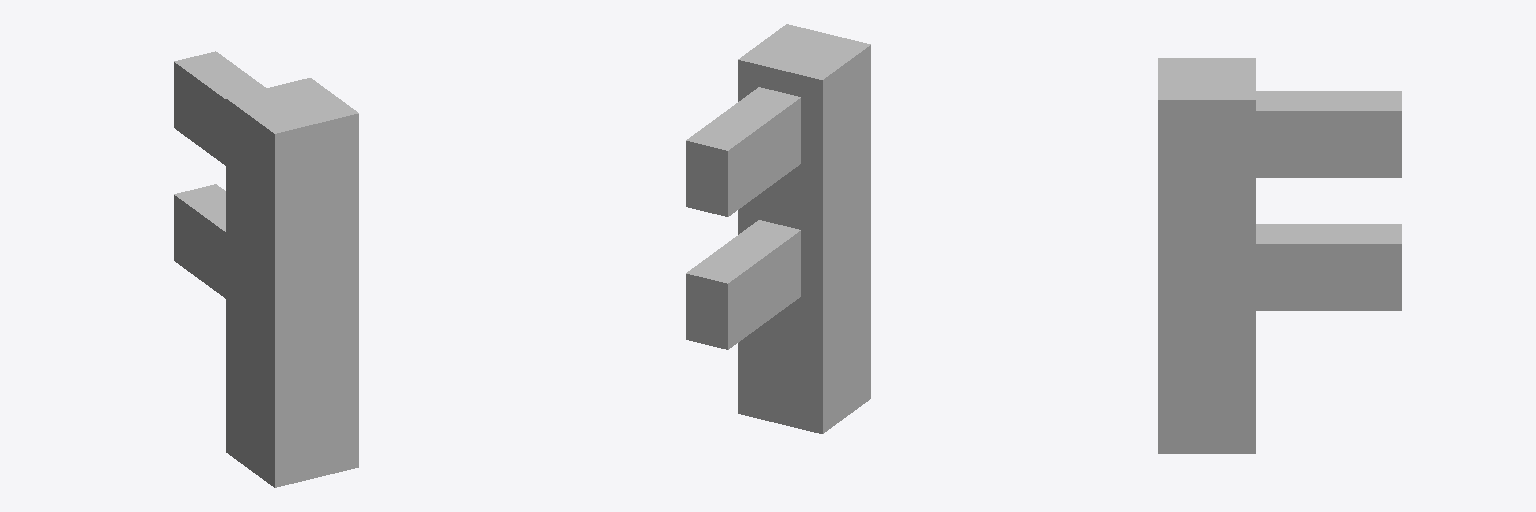
File: fence.obj
The picture shows the model from 3 angles: view 1: azimuth 30°, elevation 25°; view 2: azimuth 150°, elevation 25°; view 3: azimuth 270°, elevation 25°; orthographic projection.
Parts seen in each view (by area): view 1: Center_post, top_bar, lower_bar; view 2: Center_post, lower_bar, top_bar; view 3: Center_post, lower_bar, top_bar.
Part boxes in pixels (x1,y1,x2,y2): Center_post: (226, 78, 358, 487); top_bar: (174, 51, 265, 165); lower_bar: (174, 184, 225, 298); Center_post: (738, 24, 870, 433); lower_bar: (686, 220, 800, 349); top_bar: (686, 87, 800, 216); Center_post: (1158, 58, 1255, 453); lower_bar: (1256, 224, 1401, 310); top_bar: (1256, 91, 1401, 177).
Bounding box in the file's own units: 0.25 × 1 × 0.625.